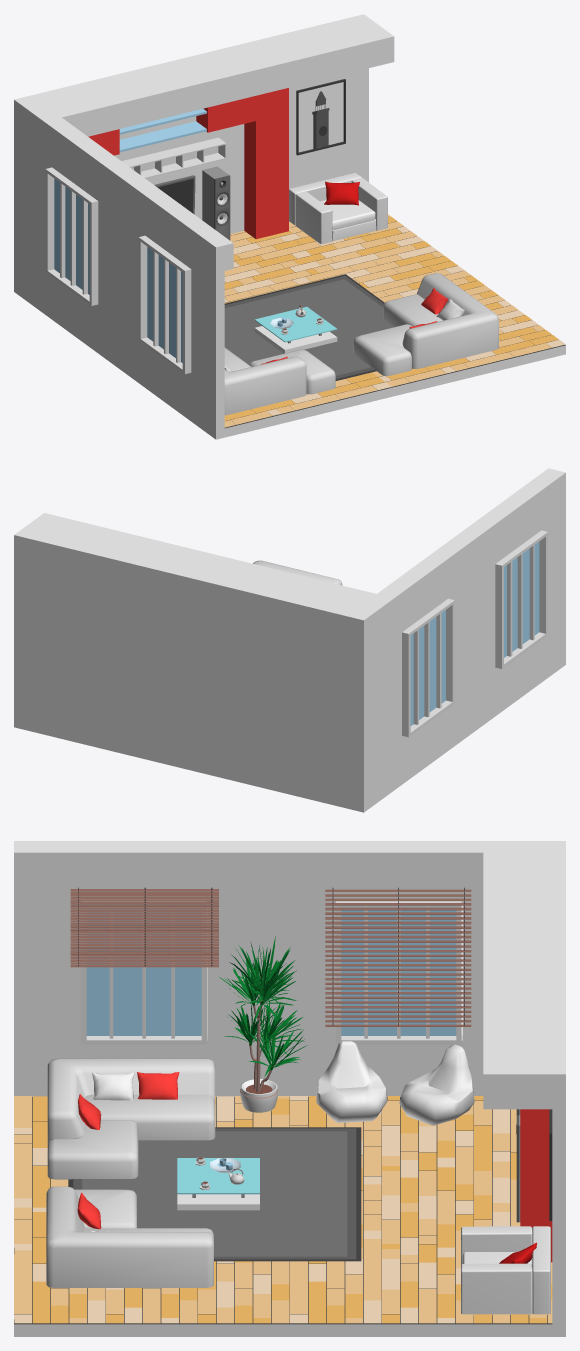
Rendered from room_6.glb.
The picture shows the model from 3 angles, top to bottom: view 1: azimuth 30°, elevation 25°; view 2: azimuth 150°, elevation 25°; view 3: azimuth 270°, elevation 25°; orthographic projection. The views are drawn at different scales.
Parts seen in each view (by area): view 1: Walls_003.068, Walls_006.152, floor_015.007, carpet_004.010, sofa_034.002, Walls_006.159, Walls_006.161, Walls_006.153, Walls_006.160, wall_024.001, window_014.001, window_014.002 (+15 smaller); view 2: Walls_006.152, Walls_006.159, Walls_003.068, Walls_006.161, Walls_006.160, window_014.001, window_014.002, Walls_006.153, Walls_006.162, Walls_003.069, sofa_034.002; view 3: carpet_004.010, Walls_003.069, floor_015.007, Walls_003.068, floor_015.006, sofa_034.001, floor_015.005, Walls_006.162, Curtains_033.002, sofa_034.002, Walls_006.153, window_014.001 (+17 smaller).
Boxes of the visible parts, bbox=[...] form: Walls_003.068: bbox=[37, 18, 394, 136]; Walls_006.152: bbox=[23, 14, 368, 233]; floor_015.007: bbox=[230, 214, 464, 293]; carpet_004.010: bbox=[224, 274, 393, 380]; sofa_034.002: bbox=[353, 273, 498, 376]; Walls_006.159: bbox=[14, 97, 60, 319]; Walls_006.161: bbox=[52, 125, 198, 268]; Walls_006.153: bbox=[190, 227, 224, 439]; Walls_006.160: bbox=[52, 277, 190, 420]; wall_024.001: bbox=[244, 88, 288, 239]; window_014.001: bbox=[138, 235, 191, 374]; window_014.002: bbox=[45, 167, 98, 305]; Walls_006.152: bbox=[14, 531, 359, 810]; Walls_006.159: bbox=[355, 590, 401, 812]; Walls_003.068: bbox=[19, 513, 376, 612]; Walls_006.161: bbox=[393, 489, 540, 631]; Walls_006.160: bbox=[402, 641, 540, 784]; window_014.001: bbox=[495, 530, 547, 668]; window_014.002: bbox=[402, 598, 454, 737]; Walls_006.153: bbox=[532, 470, 565, 682]; Walls_006.162: bbox=[450, 566, 495, 695]; Walls_003.069: bbox=[352, 468, 556, 614]; sofa_034.002: bbox=[253, 560, 342, 585]; carpet_004.010: bbox=[68, 1127, 361, 1261]; Walls_003.069: bbox=[14, 847, 552, 887]; floor_015.007: bbox=[290, 1207, 552, 1323]; Walls_003.068: bbox=[483, 852, 552, 1109]; floor_015.006: bbox=[290, 1096, 516, 1207]; sofa_034.001: bbox=[47, 1058, 215, 1179]; floor_015.005: bbox=[14, 1207, 289, 1323]; Walls_006.162: bbox=[207, 903, 335, 1040]; Curtains_033.002: bbox=[325, 887, 471, 1026]; sofa_034.002: bbox=[46, 1186, 213, 1287]; Walls_006.153: bbox=[14, 841, 82, 1096]; window_014.001: bbox=[81, 901, 206, 1044].
Size of the model in its own units: 8.15 by 4.22 by 8.
Materials: 1 (1 with a texture image).
